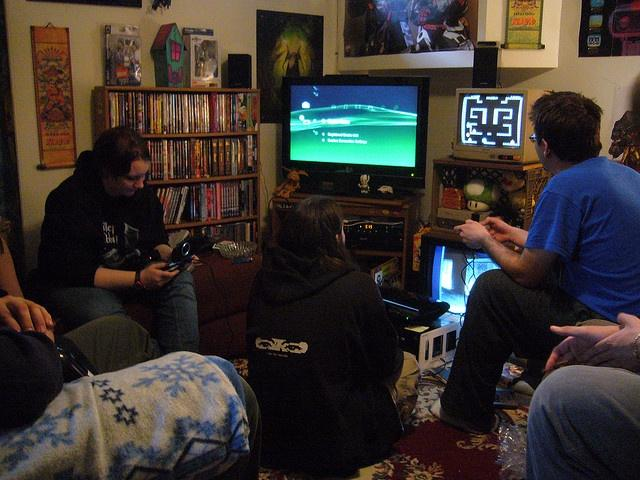AIO PC-Monitor-TV: (280, 75, 429, 199)
Rak: (147, 88, 259, 253)
